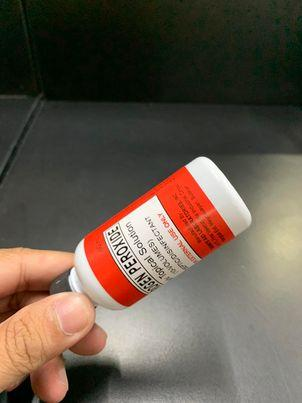-Bottle-: (47, 155, 252, 312)
